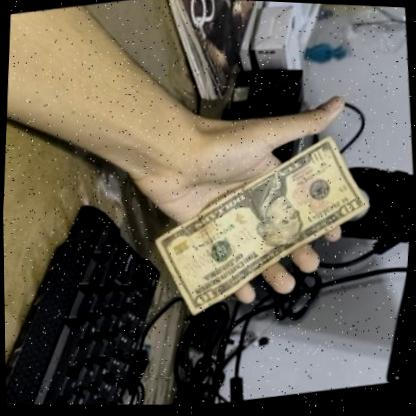ten-front: (137, 124, 388, 333)
